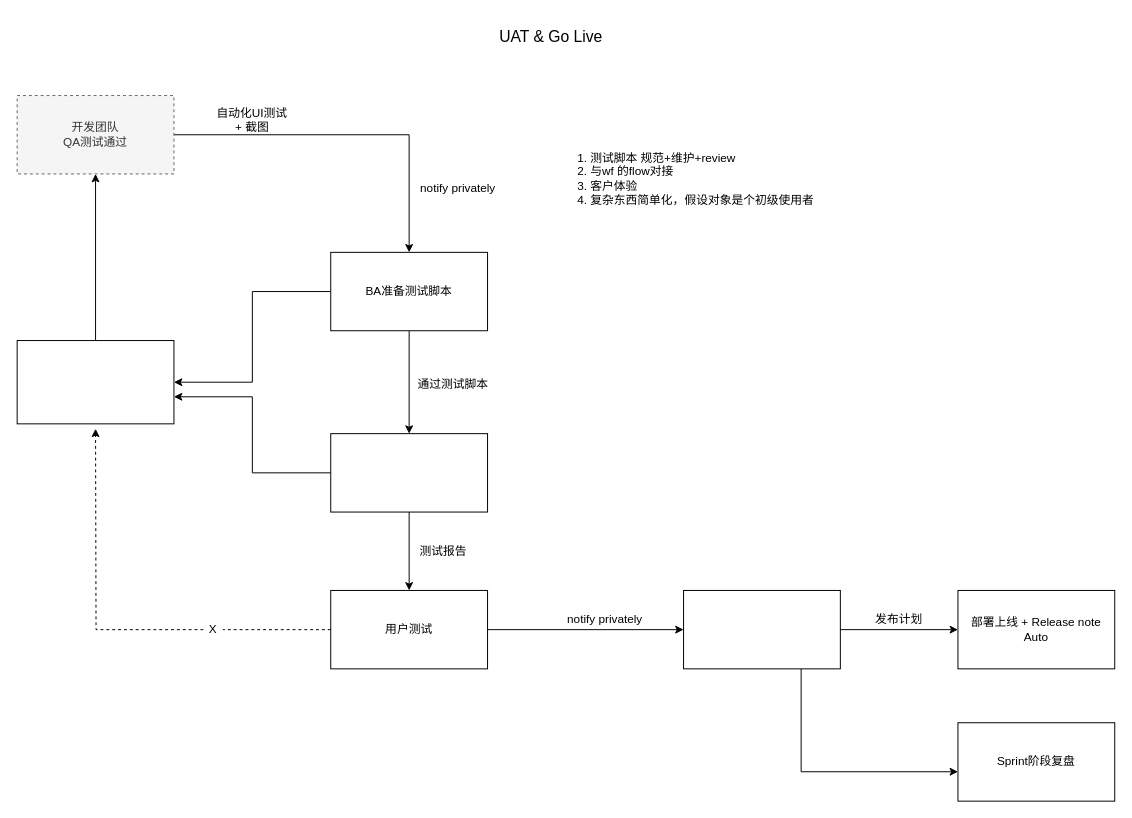
This 1132x818 diagram has some shape labels left out. The shapes that lost their labels are listed below. From the top down, each one's centre as x and y in pixels, then its label:
the point at 95,382: 开发团队 Bug确认和修复
the point at 409,472: BA测试
the point at 761,629: DM
